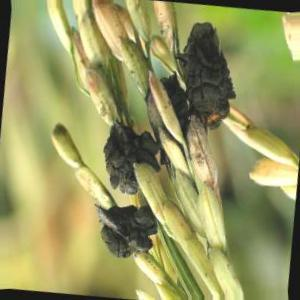False Smut: (180, 19, 233, 129), (102, 120, 165, 195), (100, 206, 155, 263)
